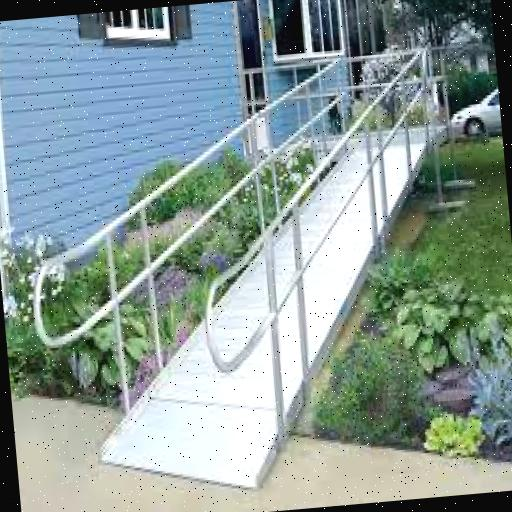ramp: (72, 140, 460, 503)
